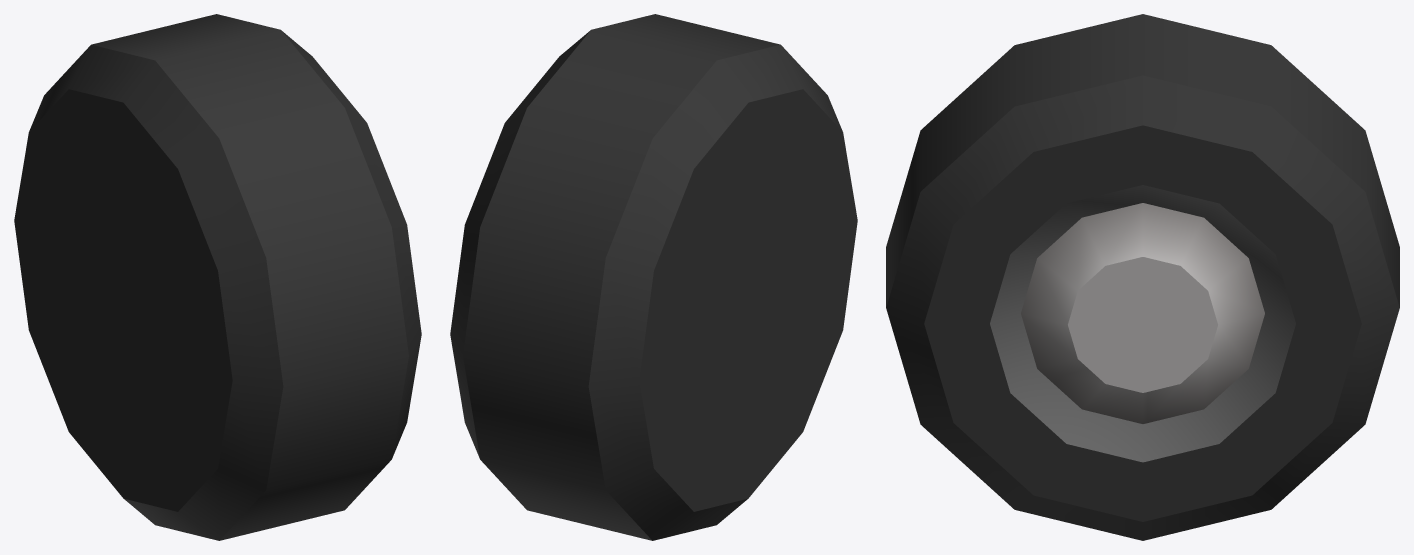
Rendered from wheel_L.glb.
3 renders of one model, left to right at view 1: azimuth 30°, elevation 25°; view 2: azimuth 150°, elevation 25°; view 3: azimuth 270°, elevation 25°, orthographic.
Visible parts, largest first — view 1: Wheel_001_L; view 2: Wheel_001_L; view 3: Wheel_001_L.
Part boxes in pixels (<box>): Wheel_001_L: <box>14,14,421,540</box>; Wheel_001_L: <box>450,14,857,540</box>; Wheel_001_L: <box>886,14,1399,540</box>.
Bounding box in the file's own units: 0.3659 × 0.8479 × 0.8479.
1 material, 1 textured.
